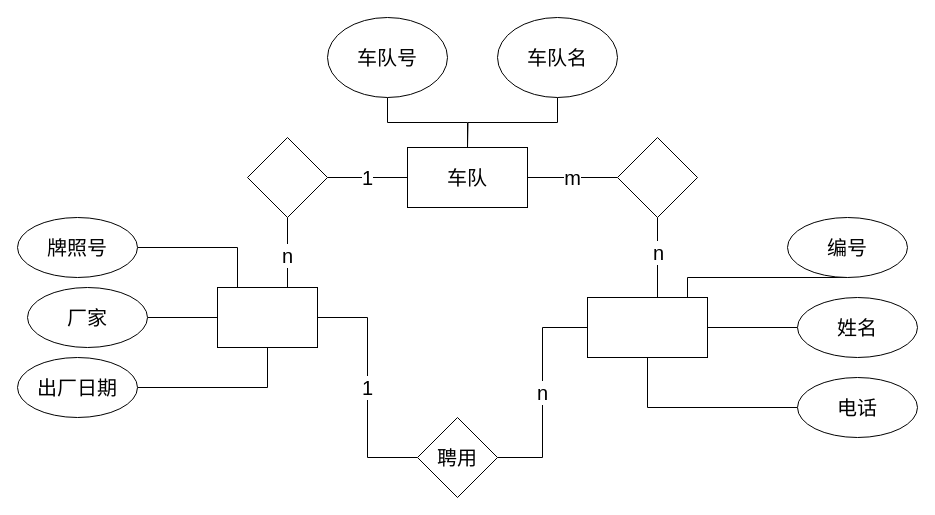
Some shapes in this 935 by 515 pixel diagram are drawn without their labels. The centre of each missing label's shape, as x and y in pixels:
"使用" goes at pixel 657 177.
"司机" goes at pixel 647 327.
"拥有" goes at pixel 287 177.
"车辆" goes at pixel 267 317.
